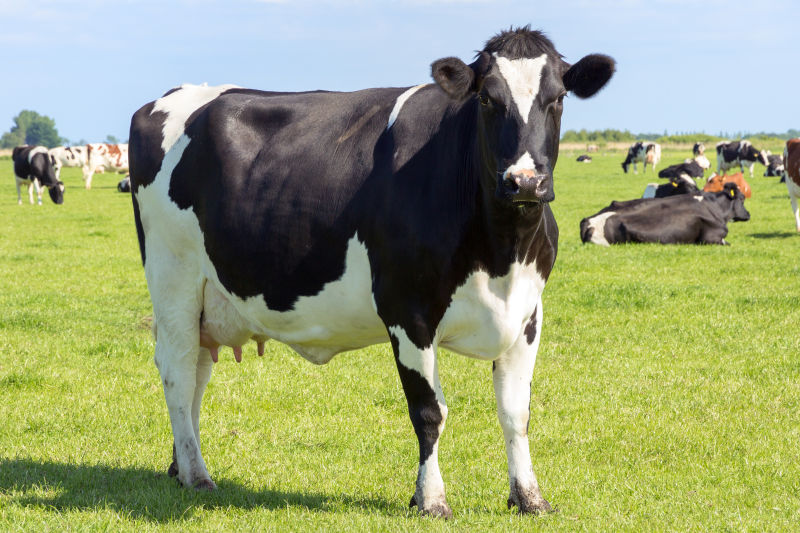MilkCow: (118, 20, 622, 521)
